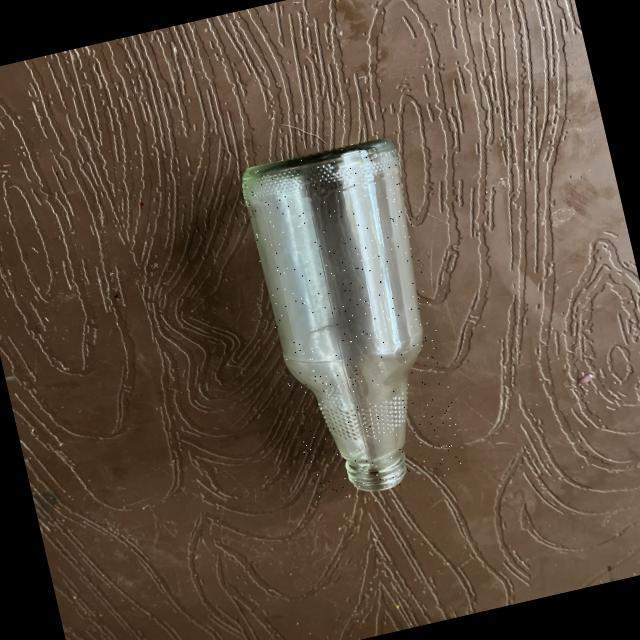Glass_Bottle: (243, 139, 422, 490)
